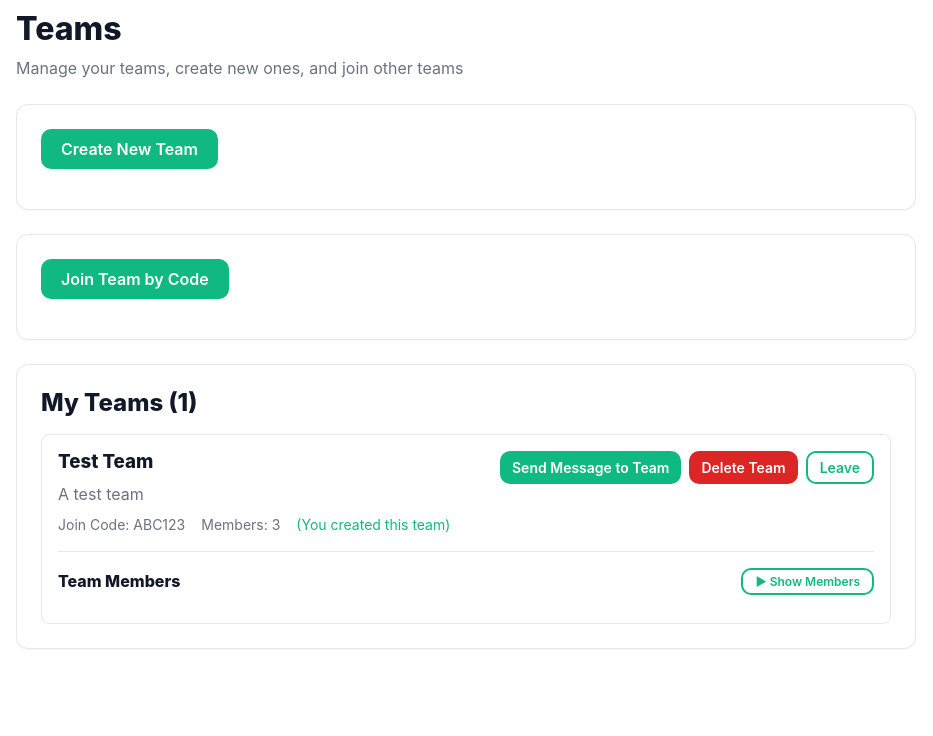
it: Team Deletion › shows error message when deletion fails with network error
The width and height of the screenshot is (933, 736).
Expected: the heading "Test Team" is shown, [58,450,153,473]
What coordinates should you click on to do the following:
click the button "Delete Team"
I would click on:
 (744, 468)
Its box is [690,451,798,484].
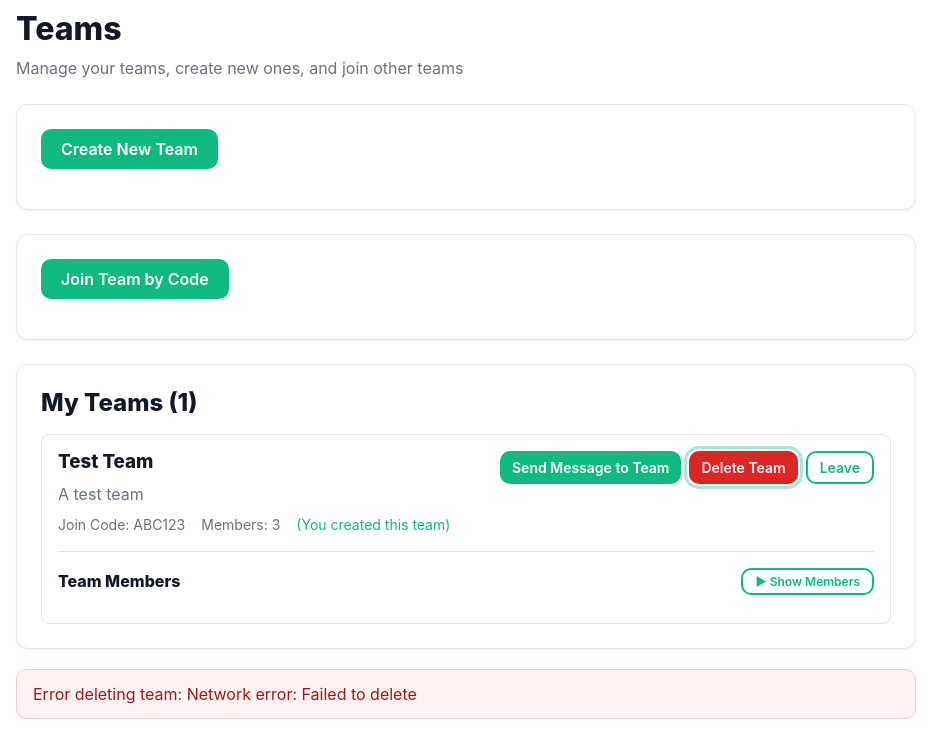
Result: the text "Error deleting team: Network error: Failed to delete" is shown at [16,669,916,719]
